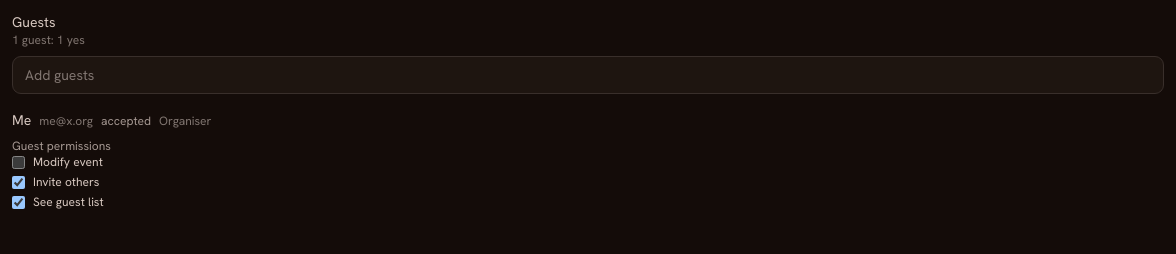
Test: GuestField, adding › knows a room by its address
The image size is (1176, 254).
Type "room1@resource.calendar.google.com" into the dropdown labelled "Add guests".
click(588, 75); type("room1@resource.calendar.google.com")  # box [12, 56, 1164, 94]
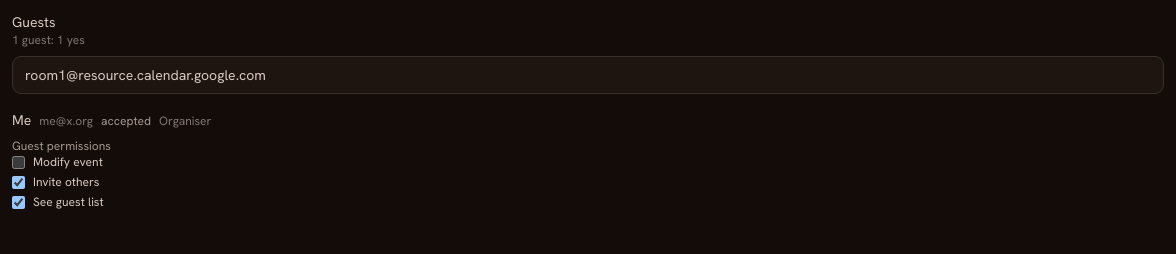
Press Enter in the dropdown named "Add guests", box [12, 56, 1164, 94]
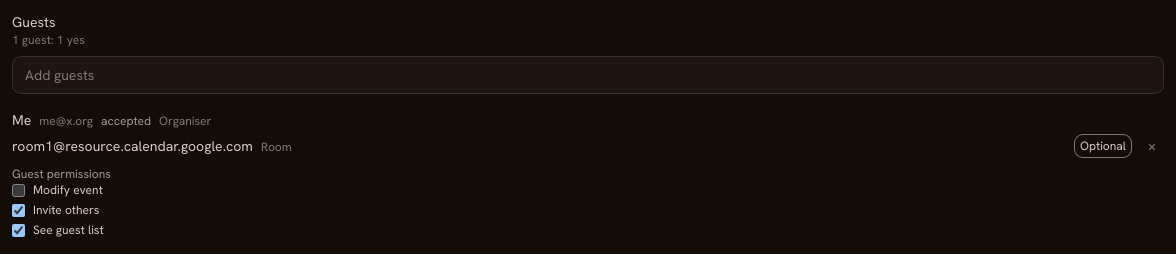
expect the list item "room1@resource.calendar.google.com Room Optional ×" is shown: met, box [12, 134, 1164, 158]
